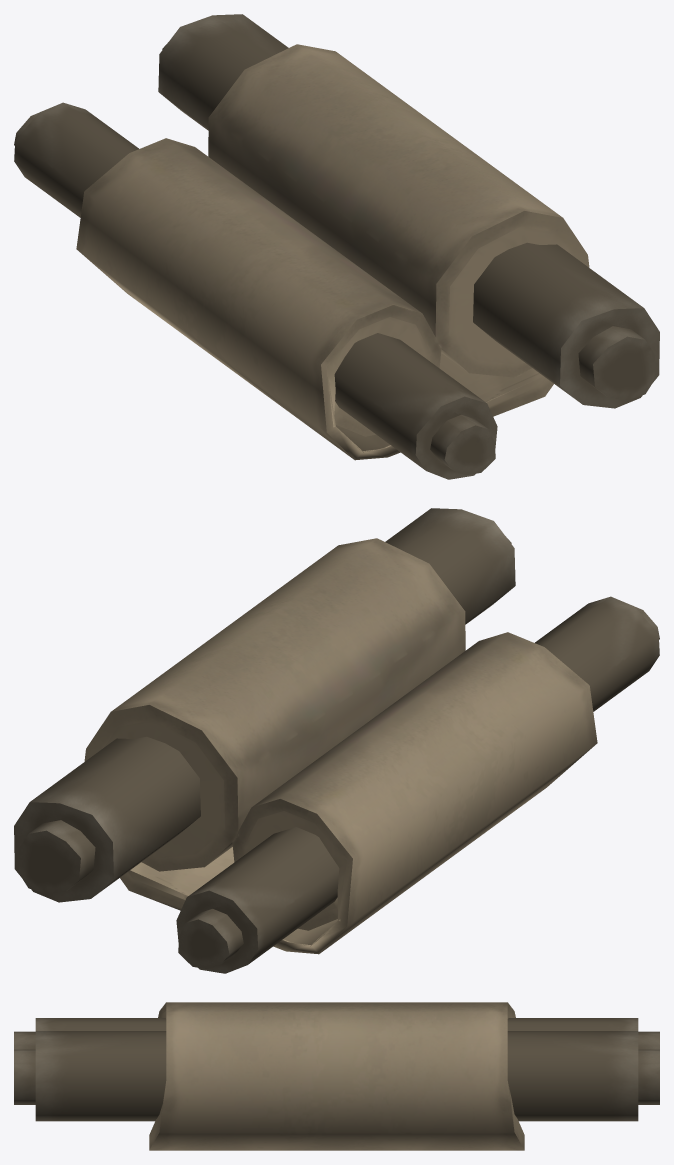
File: ClosedScroll_1.gltf
3 renders of one model, top to bottom at view 1: azimuth 30°, elevation 25°; view 2: azimuth 150°, elevation 25°; view 3: azimuth 270°, elevation 25°, orthographic. The views are drawn at different scales.
Parts seen in each view (by area): view 1: ClosedScroll_1; view 2: ClosedScroll_1; view 3: ClosedScroll_1.
Part boxes in pixels (<box>): ClosedScroll_1: <box>14,14,659,479</box>; ClosedScroll_1: <box>14,508,659,973</box>; ClosedScroll_1: <box>14,1002,659,1150</box>.
Size of the model in its own units: 0.2746 by 0.2027 by 0.7416.
1 material, 1 textured.
